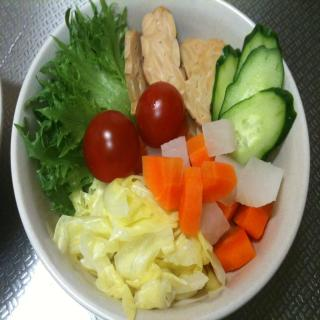tomato: (82, 110, 136, 184), (135, 78, 184, 150)
